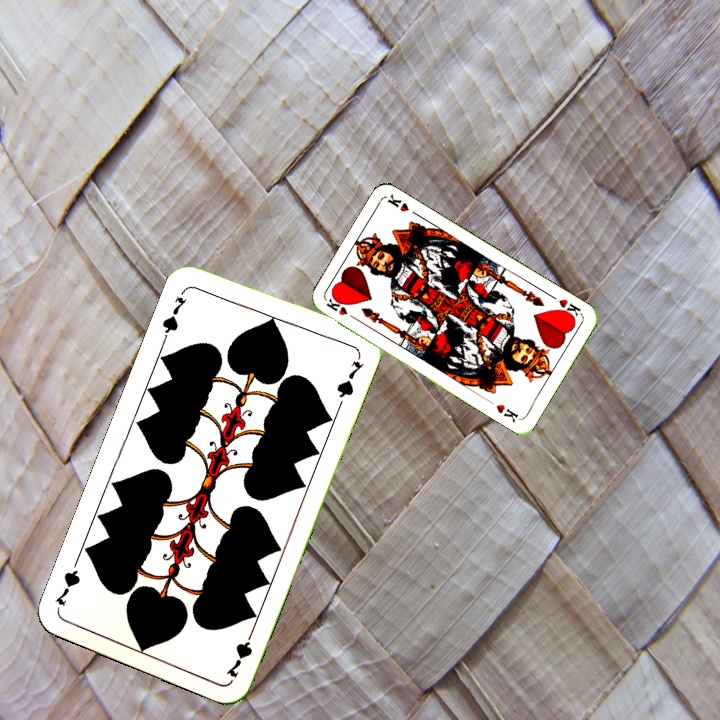G7: (222, 624, 257, 680), (157, 285, 189, 342)
HK: (547, 291, 584, 322), (322, 294, 360, 323)
